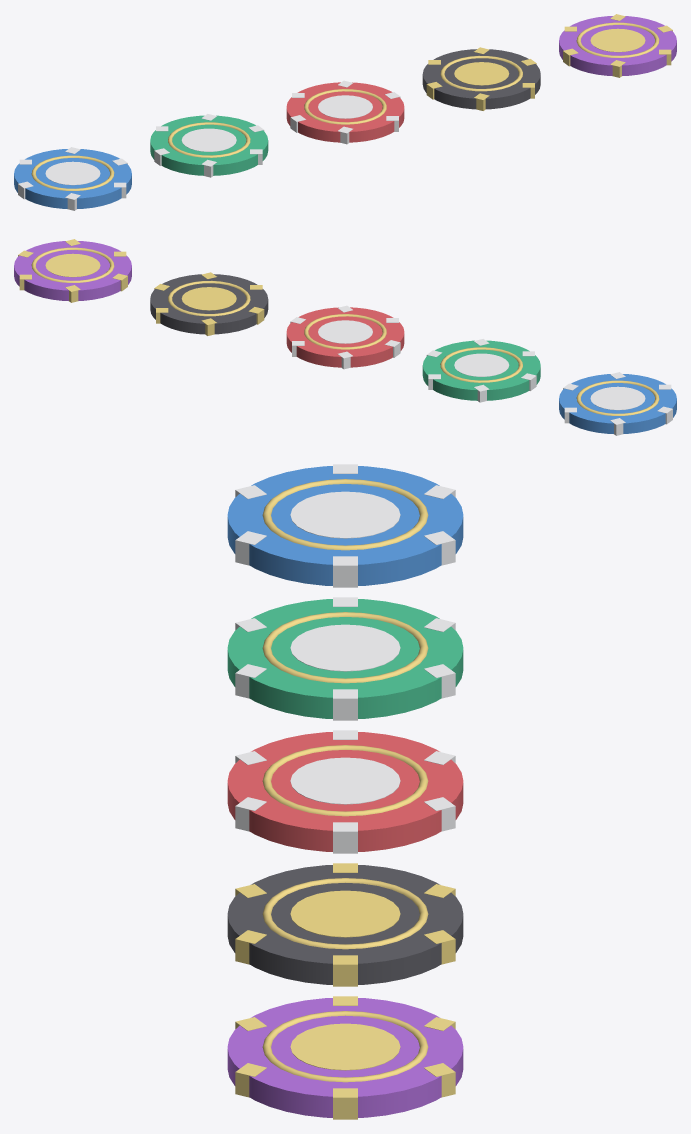
File: poker_chips.glb
The picture shows the model from 3 angles, top to bottom: view 1: azimuth 30°, elevation 25°; view 2: azimuth 150°, elevation 25°; view 3: azimuth 270°, elevation 25°; orthographic projection. The views are drawn at different scales.
Parts seen in each view (by area): view 1: Chip_50, Chip_25, Chip_100, Chip_10, Chip_500; view 2: Chip_50, Chip_25, Chip_100, Chip_10, Chip_500; view 3: Chip_50, Chip_10, Chip_500, Chip_25, Chip_100.
Boxes of the visible parts, x1,y1,x2,y2 form: Chip_50: (286,80,404,144); Chip_25: (150,114,268,177); Chip_100: (422,47,540,110); Chip_10: (14,147,131,210); Chip_500: (559,14,676,77); Chip_50: (286,305,404,369); Chip_25: (422,339,540,402); Chip_100: (150,272,268,335); Chip_10: (559,372,676,435); Chip_500: (14,239,131,302); Chip_50: (227,730,463,853); Chip_10: (227,464,463,587); Chip_500: (227,996,463,1119); Chip_25: (227,597,463,720); Chip_100: (227,863,463,986).
Size of the model in its own units: 5.72 by 0.112 by 0.9.
